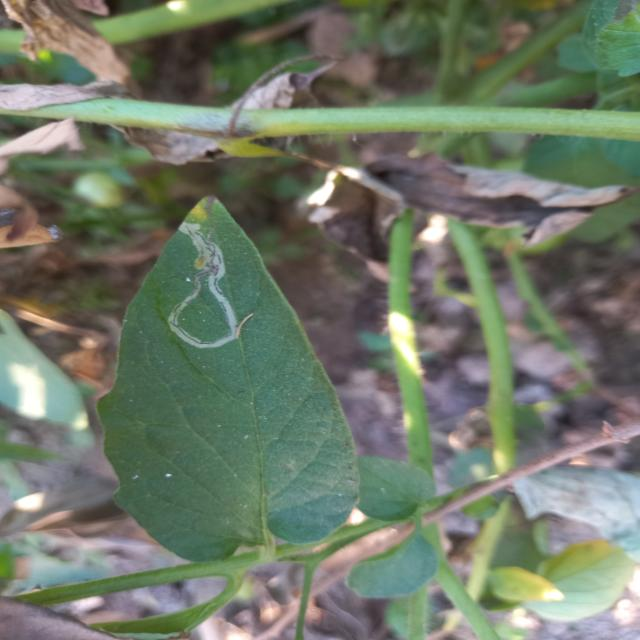Tuta absoluta: (165, 221, 249, 352)
